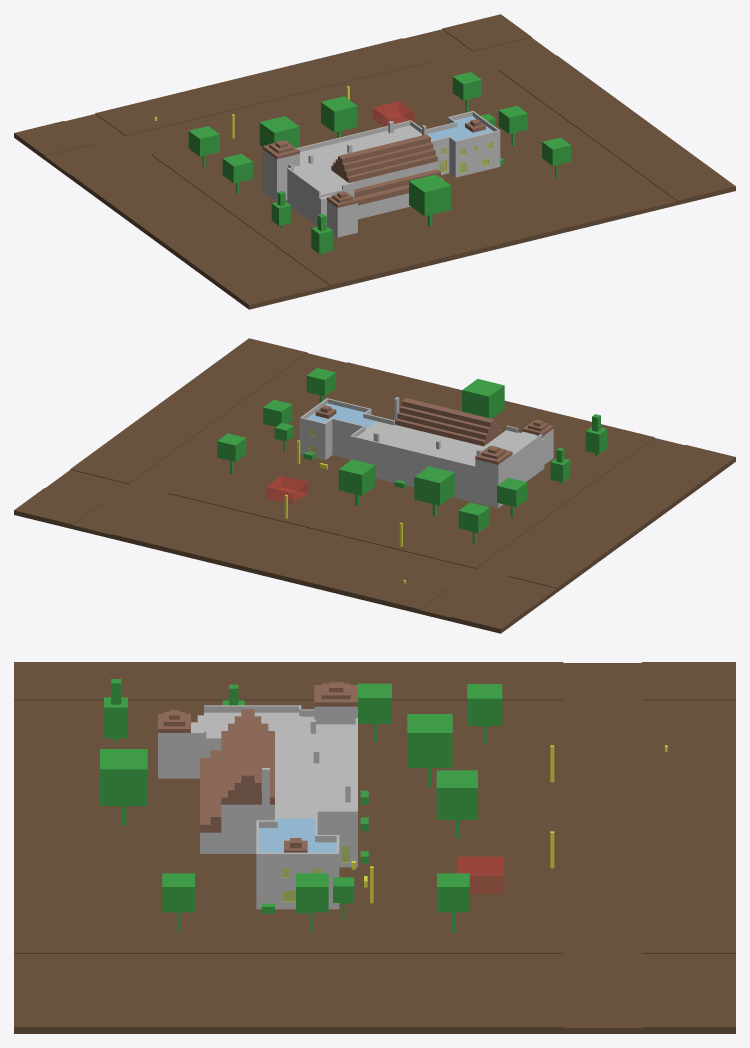
File: colliders.glb
3 views of the same model, one above another, from view 1: azimuth 30°, elevation 25°; view 2: azimuth 150°, elevation 25°; view 3: azimuth 270°, elevation 25° (orthographic). The views are drawn at different scales.
Visible parts, largest first — view 1: col-ground-block, col-ground-road, col-ground-east, col-ground-north-c, col-ground-west, col-mass-body-01, col-ground-north-e, col-ground-north-w, col-tree-south-1-canopy, col-mass-body-03, col-mass-tower, col-tree-north-2-canopy (+16 smaller); view 2: col-ground-block, col-ground-road, col-ground-east, col-ground-north-c, col-ground-west, col-mass-body-03, col-ground-north-e, col-ground-north-w, col-mass-body-01, col-tree-south-1-canopy, col-mass-tower, col-tree-north-1-canopy (+16 smaller); view 3: col-ground-block, col-ground-road, col-ground-east, col-ground-north-c, col-ground-west, col-ground-north-e, col-ground-north-w, col-mass-body-03, col-tree-south-1-canopy, col-tree-north-1-canopy, col-tree-north-2-canopy, col-mass-gabled (+21 smaller).
Part boxes in pixels (<box>): col-ground-block: <box>151,81,637,289</box>; col-ground-road: <box>14,29,735,309</box>; col-ground-east: <box>498,55,735,201</box>; col-ground-north-c: <box>95,38,432,136</box>; col-ground-west: <box>70,162,299,308</box>; col-mass-body-01: <box>287,164,354,226</box>; col-ground-north-e: <box>442,14,531,51</box>; col-ground-north-w: <box>14,121,94,159</box>; col-tree-south-1-canopy: <box>409,174,451,216</box>; col-mass-body-03: <box>300,129,406,165</box>; col-mass-tower: <box>262,149,299,202</box>; col-tree-north-2-canopy: <box>321,96,357,132</box>; col-ground-block: <box>168,362,654,568</box>; col-ground-road: <box>14,353,735,633</box>; col-ground-east: <box>70,338,307,483</box>; col-ground-north-c: <box>112,512,450,612</box>; col-ground-west: <box>507,445,735,588</box>; col-mass-body-03: <box>368,434,475,502</box>; col-ground-north-e: <box>14,488,103,527</box>; col-ground-north-w: <box>450,594,531,633</box>; col-mass-body-01: <box>475,430,542,481</box>; col-tree-south-1-canopy: <box>462,379,504,418</box>; col-mass-tower: <box>475,454,512,508</box>; col-tree-north-1-canopy: <box>414,466,454,505</box>; col-ground-block: <box>14,723,563,953</box>; col-ground-road: <box>14,663,735,1033</box>; col-ground-east: <box>14,983,563,1033</box>; col-ground-north-c: <box>641,723,735,953</box>; col-ground-west: <box>14,662,563,700</box>; col-ground-north-e: <box>641,983,735,1033</box>; col-ground-north-w: <box>641,662,735,700</box>; col-mass-body-03: <box>314,724,355,804</box>; col-tree-south-1-canopy: <box>100,749,147,805</box>; col-tree-north-1-canopy: <box>407,714,452,767</box>; col-tree-north-2-canopy: <box>436,770,477,819</box>; col-mass-gabled: <box>221,804,274,853</box>.
Size of the model in its own units: 110 by 13.1 by 92.
